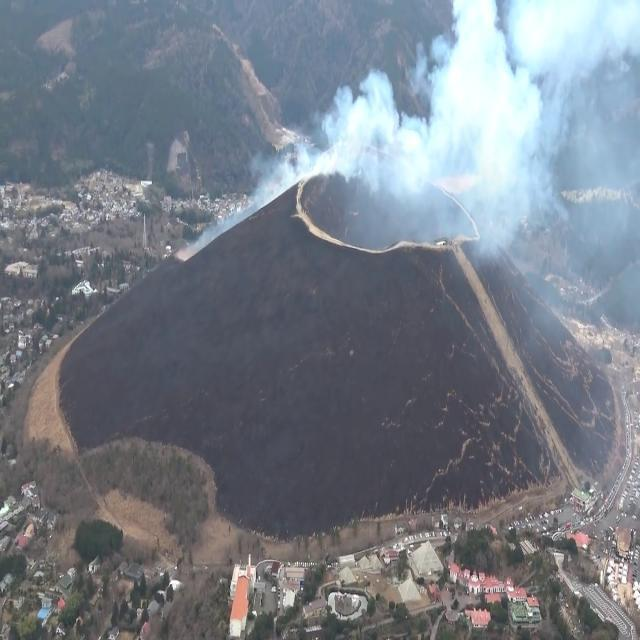Smoke: (307, 0, 634, 239)
